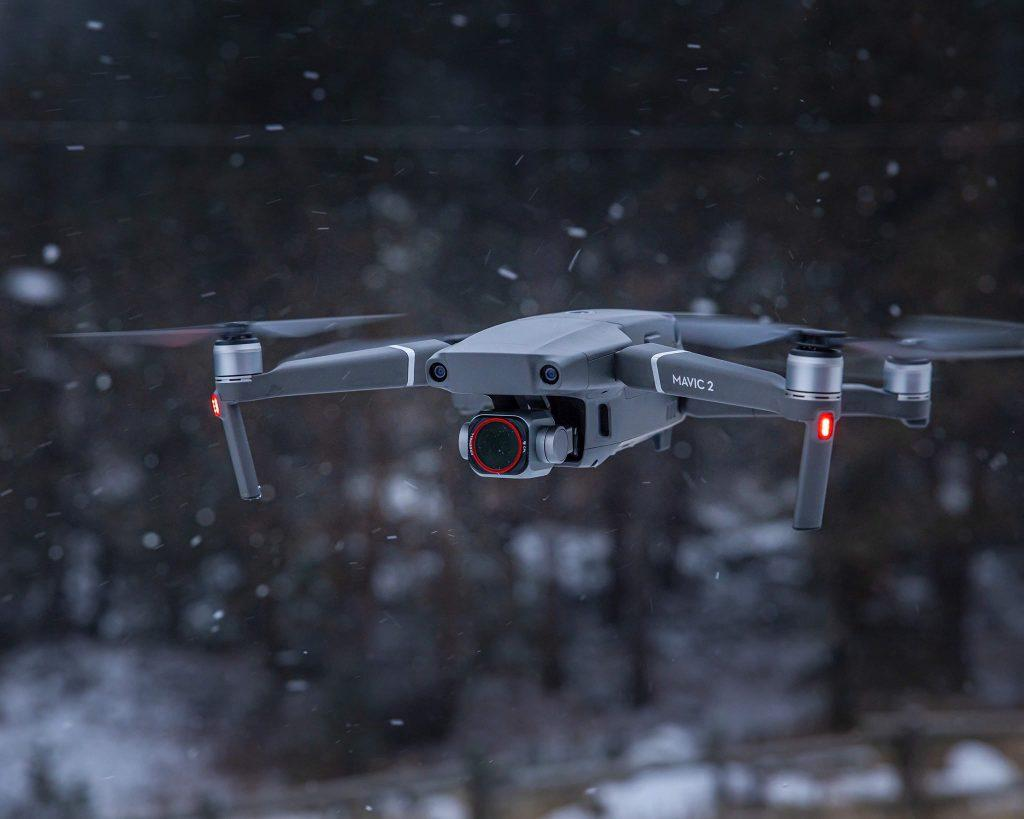drone_other: (44, 295, 1024, 538)
